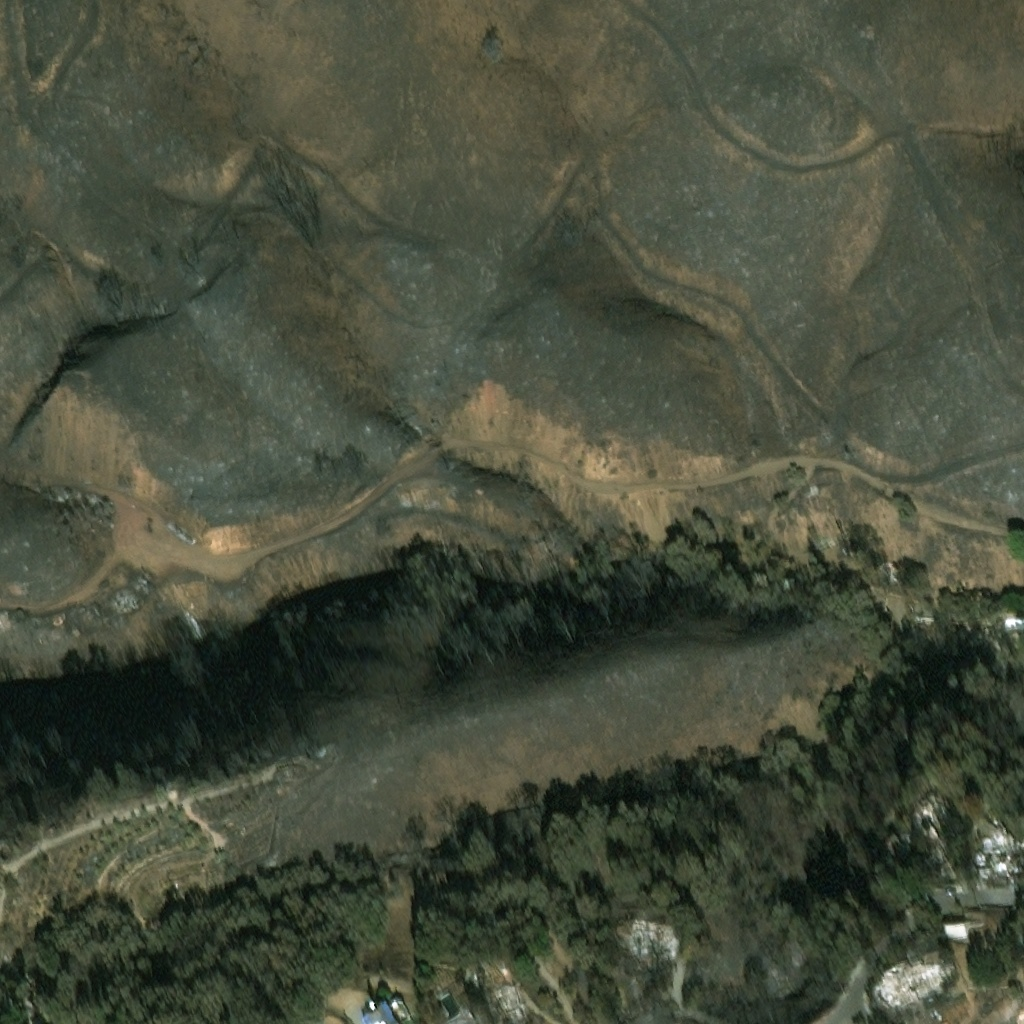0 no-damage: (363, 1006, 397, 1023), (390, 1002, 414, 1023), (940, 919, 966, 937)
3 destroyed: (867, 946, 954, 1007), (969, 827, 1006, 883), (628, 921, 671, 948), (163, 511, 196, 541), (492, 980, 520, 1015), (436, 988, 464, 1020), (931, 647, 961, 676), (76, 800, 99, 825), (277, 767, 297, 785), (1010, 837, 1023, 863), (1000, 610, 1023, 622), (121, 593, 137, 610), (11, 577, 28, 592), (613, 911, 628, 927), (165, 784, 179, 801), (0, 948, 13, 964), (470, 969, 482, 982), (808, 1013, 822, 1023), (502, 962, 510, 973)
4 un-classified: (875, 825, 914, 866), (911, 800, 947, 831), (19, 1000, 44, 1023), (775, 566, 790, 574)
